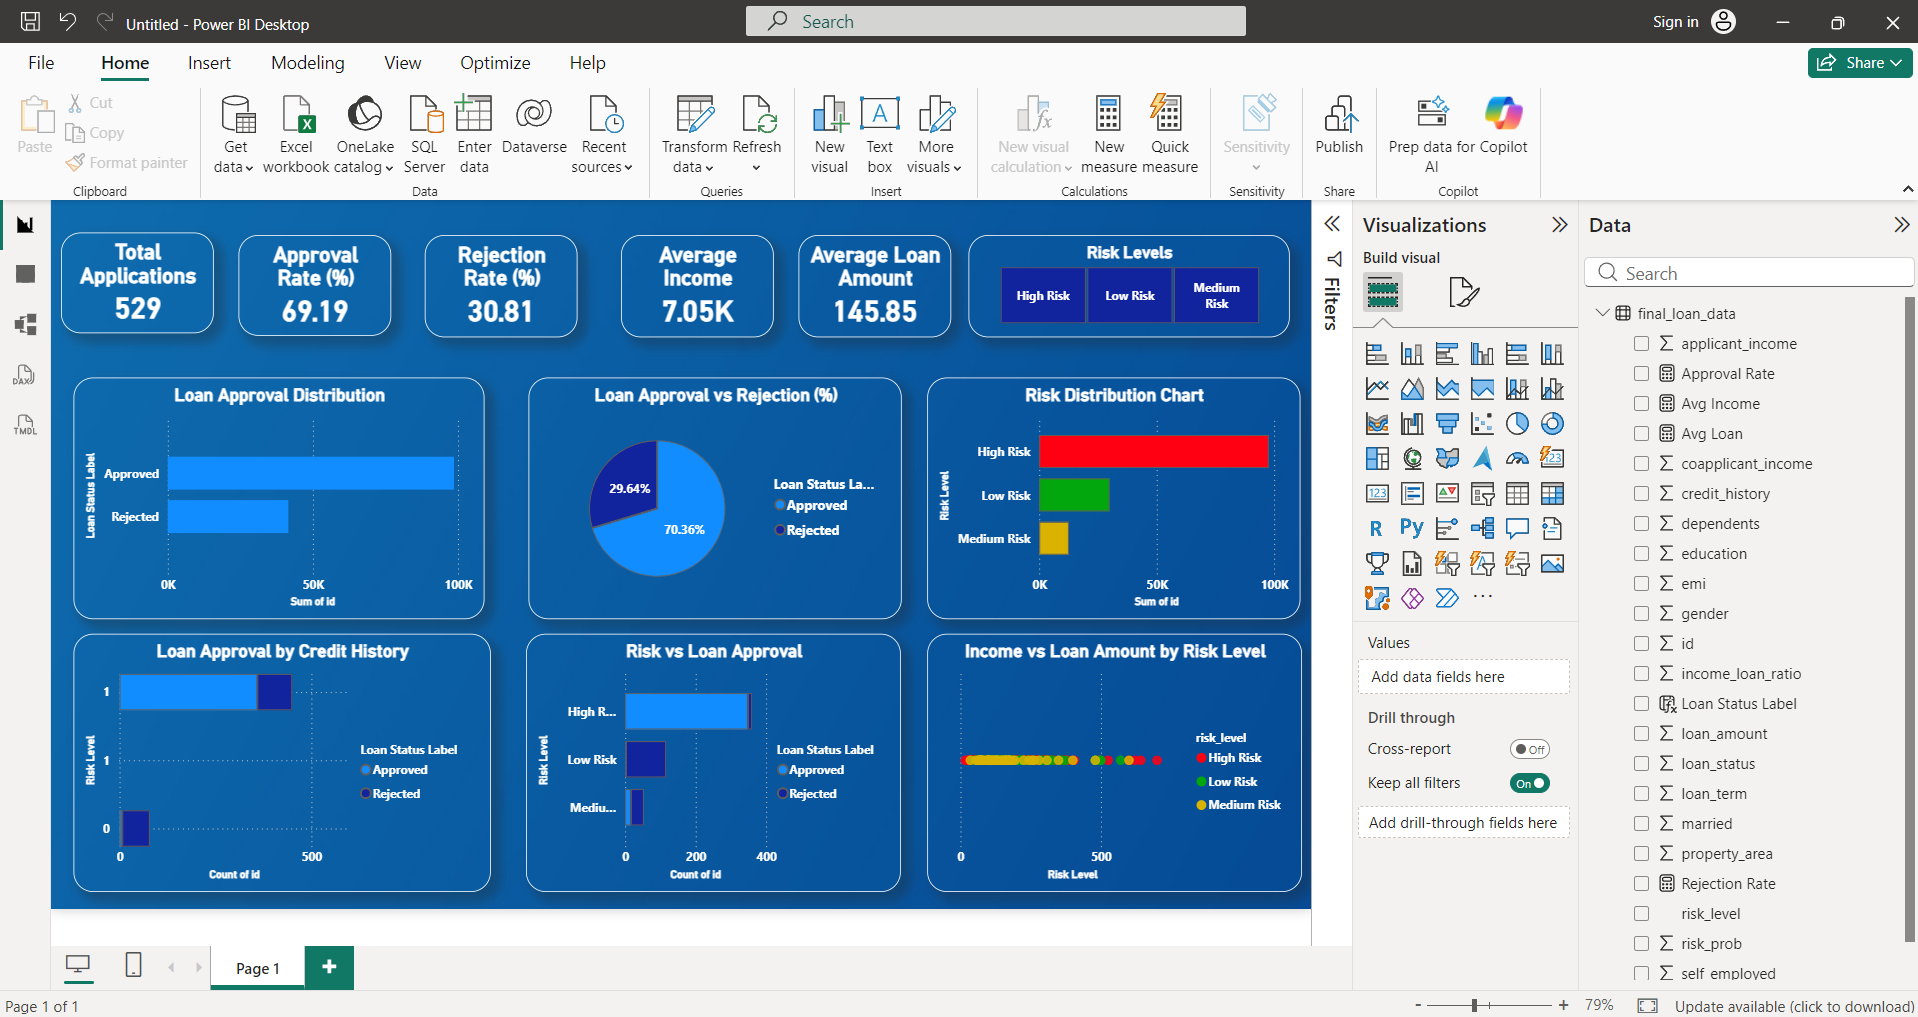

The dashboard page shown, as its layout file describes it:
{"tool":"powerbi","page":{"name":"Page 1","canvas":[1280,720],"ordinal":0},"visuals":[{"type":"card","title":"Total Applications","fields":{"Values":["CountNonNull(final_loan_data.id)"]},"box":[10.7,33.5,155.5,102.1],"z":0},{"type":"card","title":"Approval Rate (%)","fields":{"Values":["final_loan_data.Approval Rate"]},"box":[190.5,35.1,155.5,102.1],"z":1},{"type":"card","title":"Rejection Rate (%)","fields":{"Values":["final_loan_data.Rejection Rate"]},"box":[379.5,35.1,155.5,103.6],"z":2},{"type":"card","title":"Average Income","fields":{"Values":["final_loan_data.Avg Income"]},"box":[579.2,35.1,155.5,103.6],"z":3},{"type":"card","title":"Average Loan Amount","fields":{"Values":["final_loan_data.Avg Loan"]},"box":[759,35.1,155.5,103.6],"z":4},{"type":"clusteredBarChart","title":"Loan Approval Distribution","fields":{"Y":["Sum(final_loan_data.id)"],"Category":["final_loan_data.Loan Status Label"]},"box":[22.9,179.9,417.6,245.4],"z":5},{"type":"pieChart","title":"Loan Approval vs Rejection (%)","fields":{"Category":["final_loan_data.Loan Status Label"],"Y":["Sum(final_loan_data.id)"]},"box":[484.7,179.9,379.5,245.4],"z":6},{"type":"barChart","title":"Risk Distribution Chart","fields":{"Category":["final_loan_data.risk_level"],"Y":["Sum(final_loan_data.id)"]},"box":[890.1,179.9,379.5,245.4],"z":7},{"type":"barChart","title":"Risk vs Loan Approval","fields":{"Series":["final_loan_data.Loan Status Label"],"Category":["final_loan_data.risk_level"],"Y":["Count(final_loan_data.id)"]},"box":[483.2,440.5,381,262.2],"z":8},{"type":"barChart","title":"Loan Approval by Credit History","fields":{"Series":["final_loan_data.Loan Status Label"],"Category":["final_loan_data.credit_history"],"Y":["Count(final_loan_data.id)"]},"box":[22.9,440.5,423.7,262.2],"z":9},{"type":"scatterChart","title":"Income vs Loan Amount by Risk Level","fields":{"Category":["final_loan_data.total_income"],"X":["Sum(final_loan_data.loan_amount)"],"Series":["final_loan_data.risk_level"]},"box":[890.1,440.5,381,262.2],"z":10},{"type":"slicer","title":"Risk Levels ","fields":{"Values":["final_loan_data.risk_level"]},"box":[932.8,35.1,326.2,103.6],"z":11}]}

Visuals, with their boxes on the page's 1280x720 design canvas (x1, y1, x2, y2). These are canvas units, not pixel positions in the 1918x1017 screenshot, which may show the page scaled, cropped or inside an application window:
"Total Applications" card: [left=11, top=34, right=166, bottom=136]
"Approval Rate (%)" card: [left=190, top=35, right=346, bottom=137]
"Rejection Rate (%)" card: [left=380, top=35, right=535, bottom=139]
"Average Income" card: [left=579, top=35, right=735, bottom=139]
"Average Loan Amount" card: [left=759, top=35, right=914, bottom=139]
"Loan Approval Distribution" clusteredBarChart: [left=23, top=180, right=440, bottom=425]
"Loan Approval vs Rejection (%)" pieChart: [left=485, top=180, right=864, bottom=425]
"Risk Distribution Chart" barChart: [left=890, top=180, right=1270, bottom=425]
"Risk vs Loan Approval" barChart: [left=483, top=440, right=864, bottom=703]
"Loan Approval by Credit History" barChart: [left=23, top=440, right=447, bottom=703]
"Income vs Loan Amount by Risk Level" scatterChart: [left=890, top=440, right=1271, bottom=703]
"Risk Levels " slicer: [left=933, top=35, right=1259, bottom=139]
